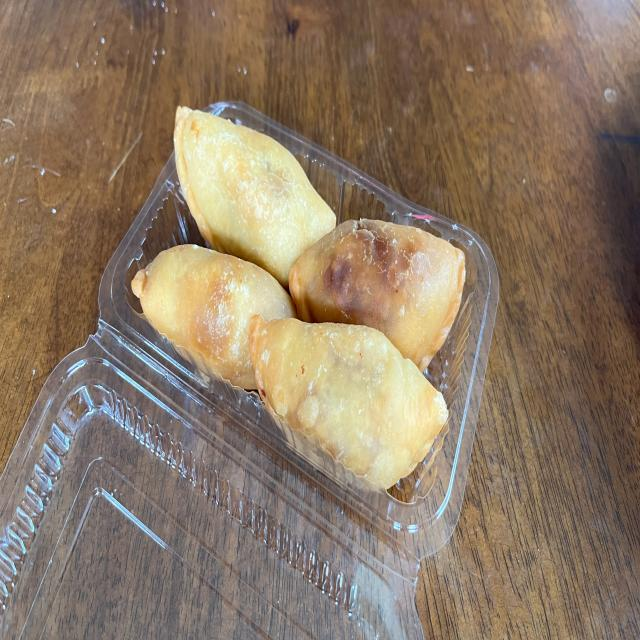karipap: (250, 316, 449, 489), (174, 107, 336, 287), (289, 218, 465, 371), (131, 244, 296, 389)
